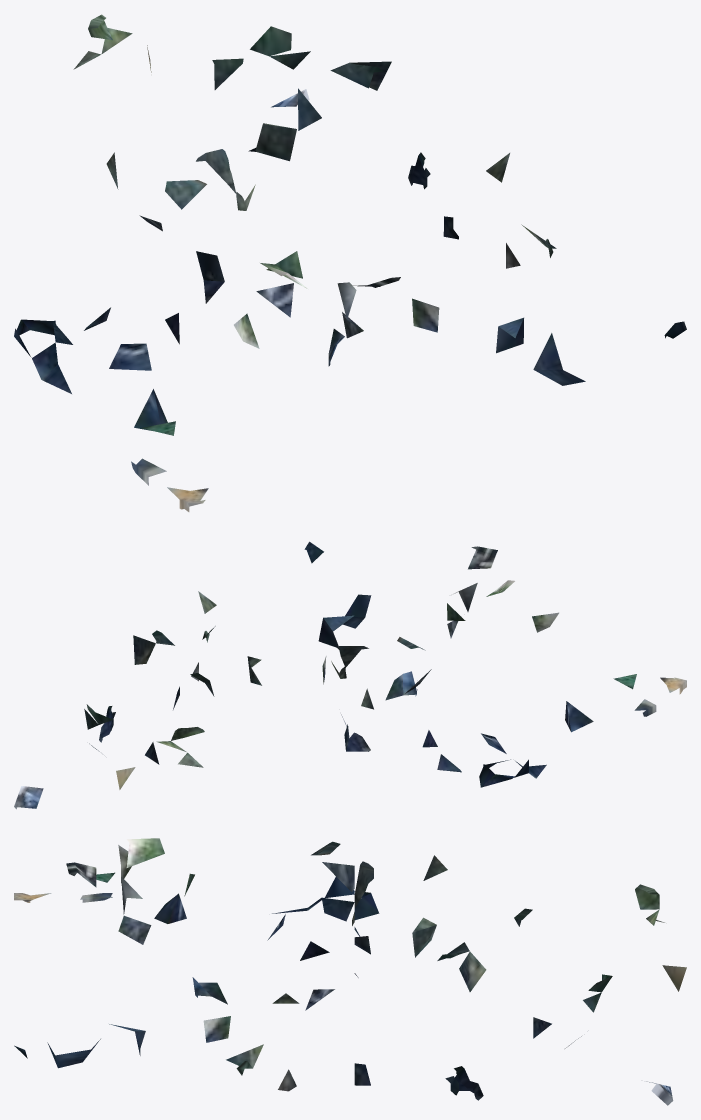
3 views of the same model, one above another, from view 1: azimuth 30°, elevation 25°; view 2: azimuth 150°, elevation 25°; view 3: azimuth 270°, elevation 25° (orthographic). The views are drawn at different scales.
Parts seen in each view (by area): view 1: 30436272704361516410_1; view 2: 30436272704361516410_1; view 3: 30436272704361516410_1.
Part boxes in pixels (left/top/right/bottom): 30436272704361516410_1: left=14, top=14, right=686, bottom=511; 30436272704361516410_1: left=14, top=541, right=686, bottom=809; 30436272704361516410_1: left=14, top=838, right=686, bottom=1105.
Size of the model in its own units: 27.47 by 8.02 by 37.8.
1 material, 1 textured.
